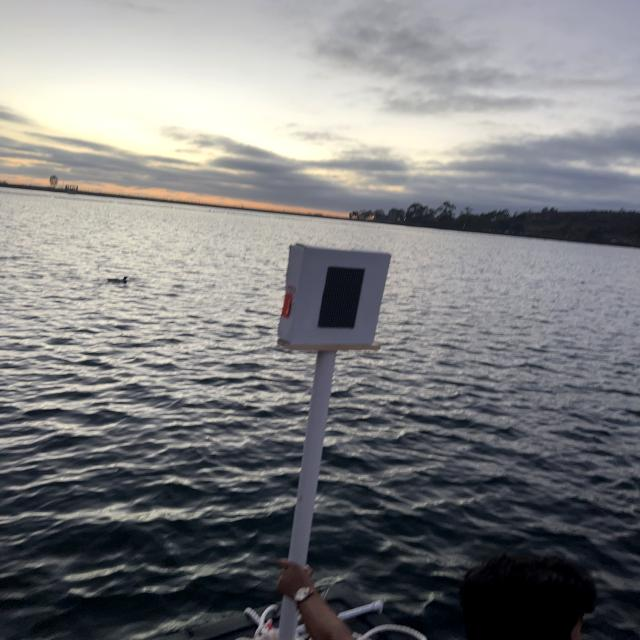led: (301, 249, 375, 347)
